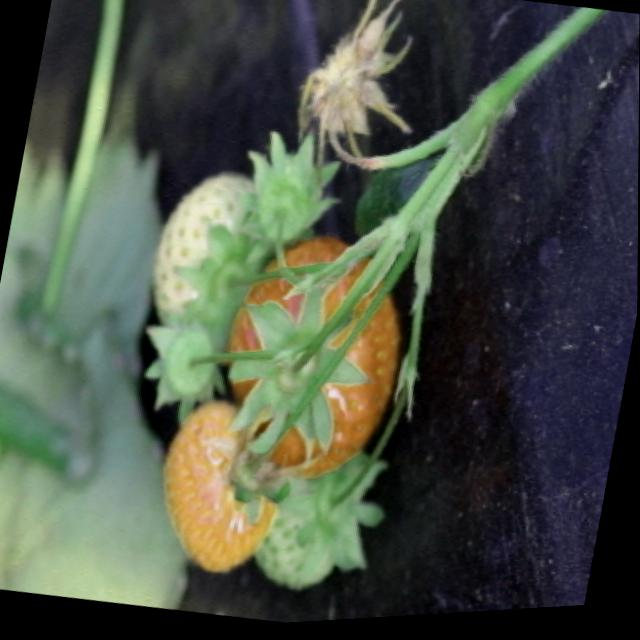Gray Mold: (296, 0, 414, 173)
